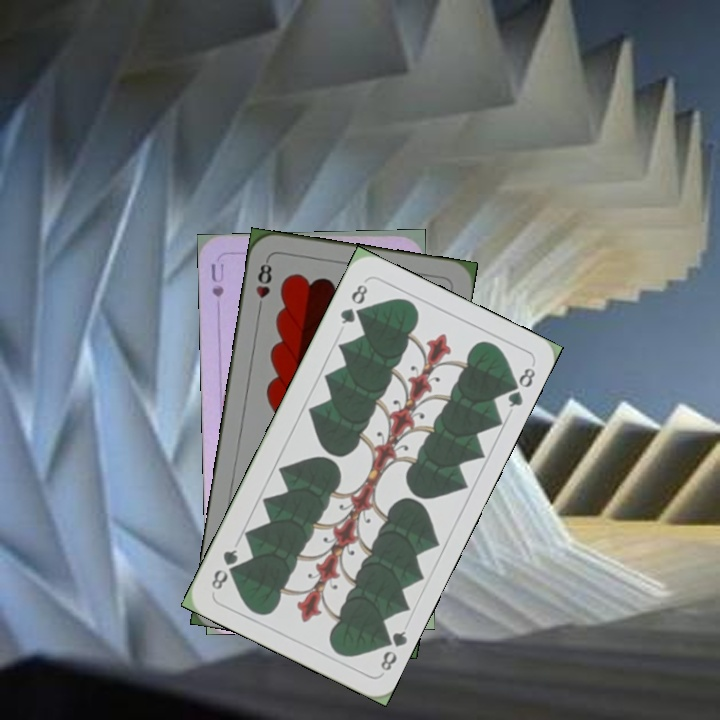G8: (375, 626, 410, 674), (336, 280, 370, 327)
H8: (252, 255, 275, 314)
SU: (206, 259, 227, 300)
